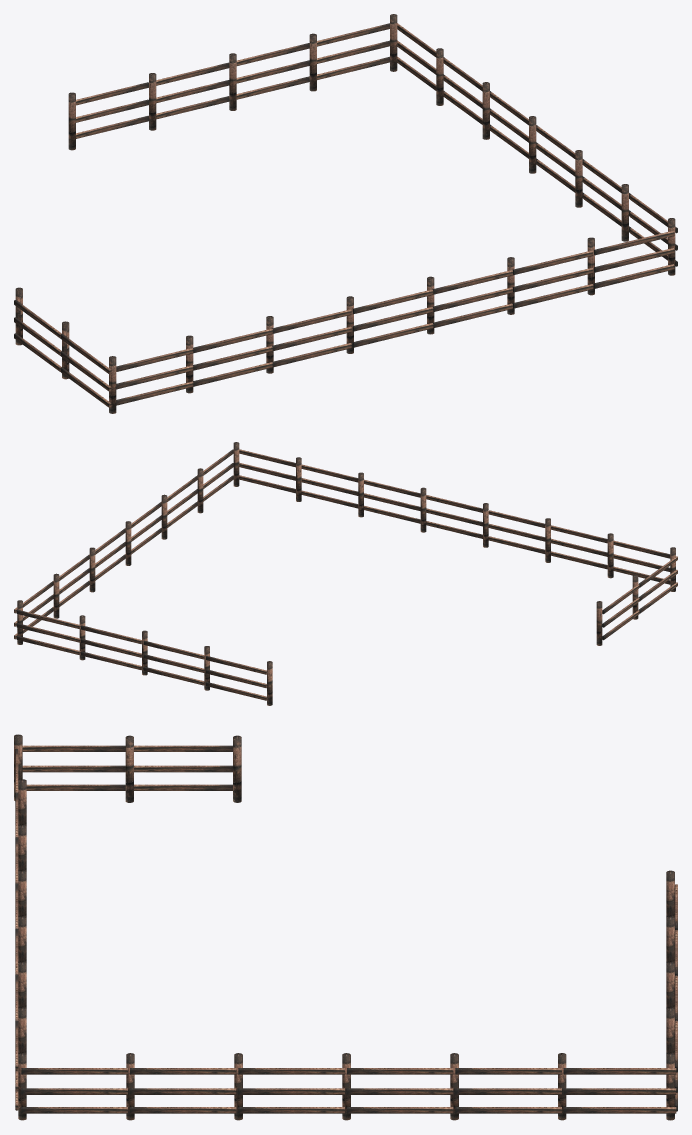
The model's file is corral3.obj.
The picture shows the model from 3 angles, top to bottom: view 1: azimuth 30°, elevation 25°; view 2: azimuth 150°, elevation 25°; view 3: azimuth 270°, elevation 25°; orthographic projection. The views are drawn at different scales.
Visible parts, largest first — view 1: corral3; view 2: corral3; view 3: corral3.
Boxes of the visible parts, <box> form: corral3: <box>14,14,677,413</box>; corral3: <box>14,442,677,705</box>; corral3: <box>14,734,677,1120</box>.
Bounding box in the file's own units: 71.13 × 6.58 × 61.48.
